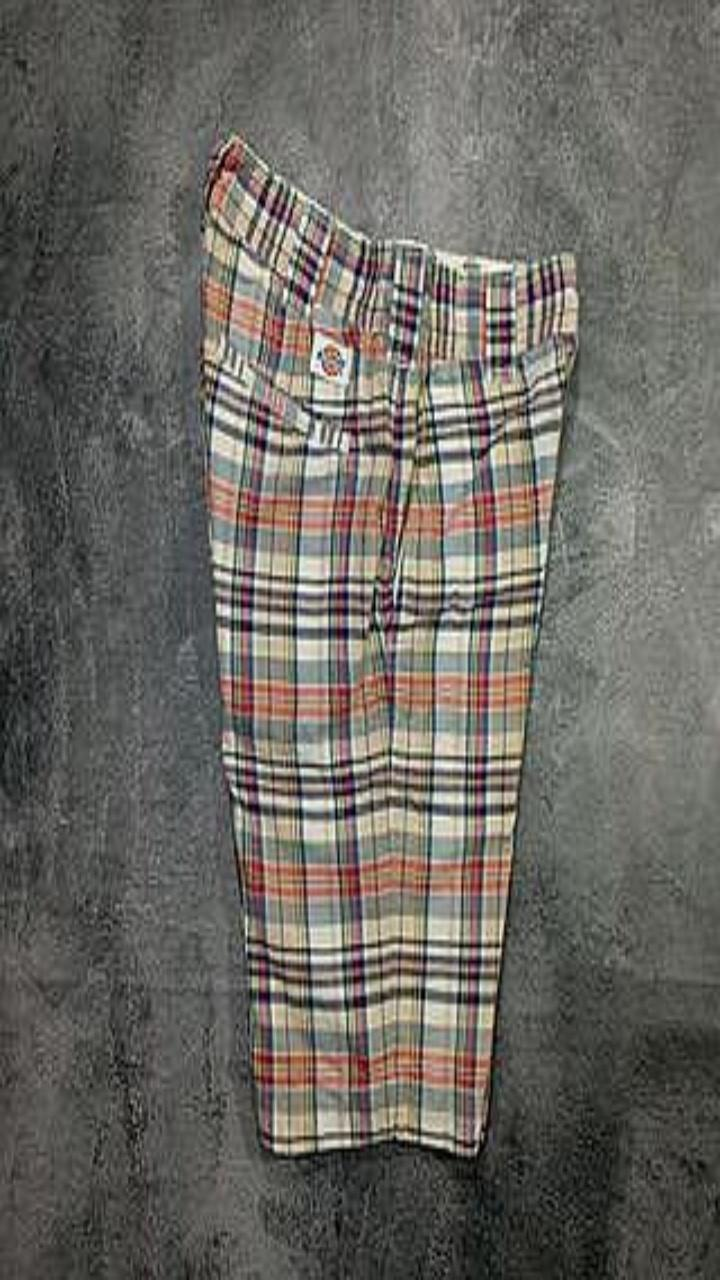Shorts: (201, 133, 577, 1155)
